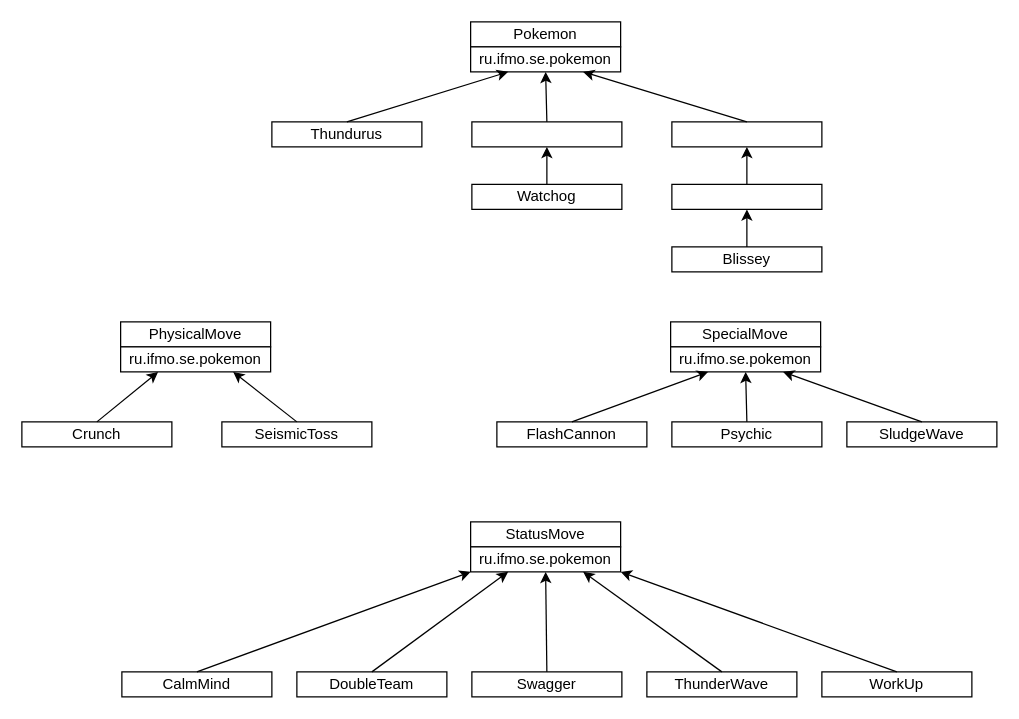
The diagram is 1019 pixels wide and 719 high, and some of its shapes have lost their labels. The box of each missing label's shape, as (x1, y1, x2, y2) in pixels:
Chansey: (671, 183, 822, 209)
Happiny: (671, 121, 822, 147)
Patrat: (471, 121, 622, 147)
